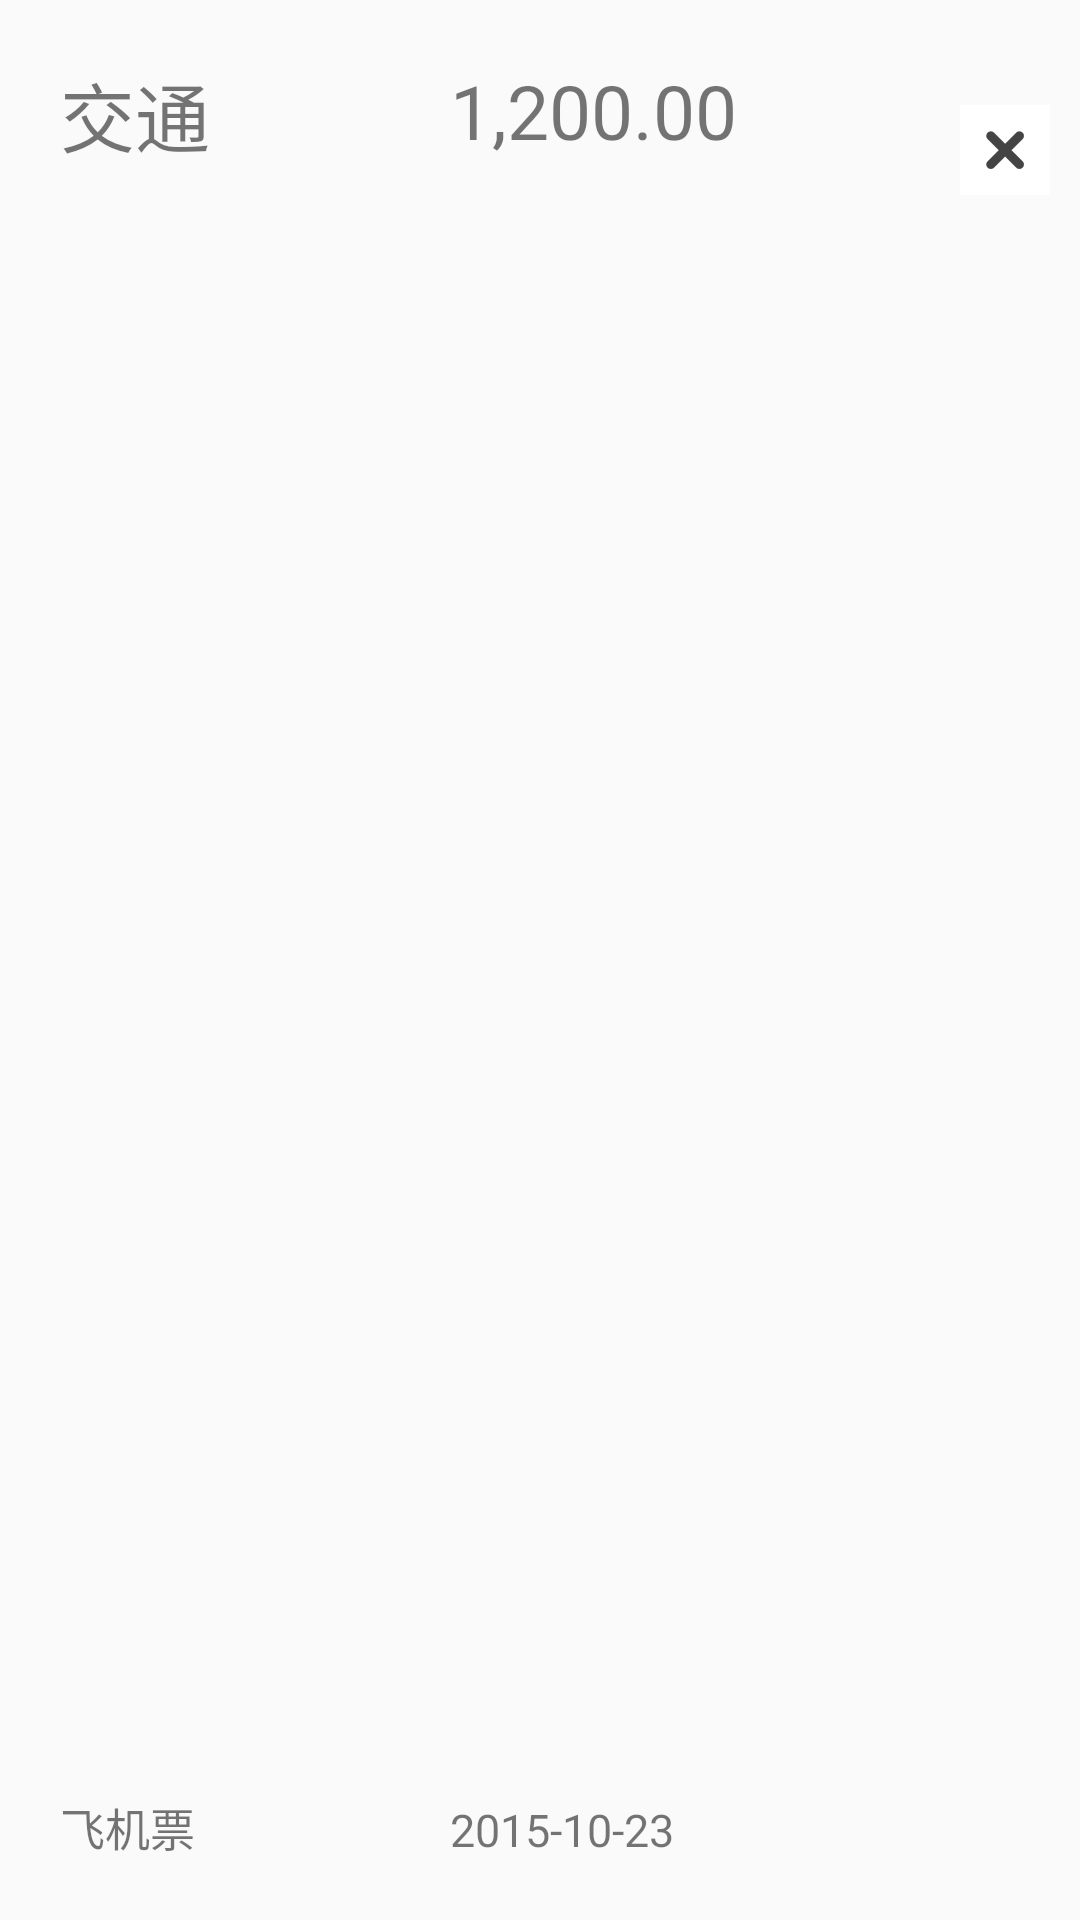

Icons on this 1080*1920 Android screen, each with the point to tap as [x,y]:
cancel: [1005,150]
